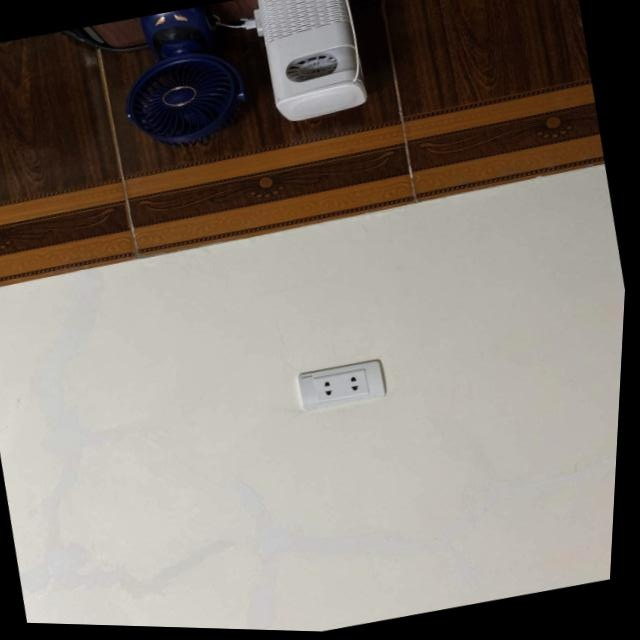outlet: (295, 355, 390, 414)
